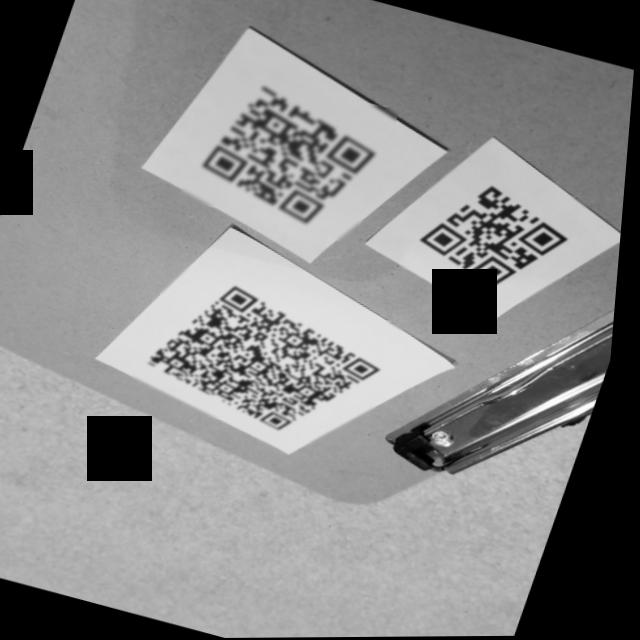QR_CODE: (128, 262, 413, 458), (180, 65, 404, 246), (403, 159, 594, 310)
